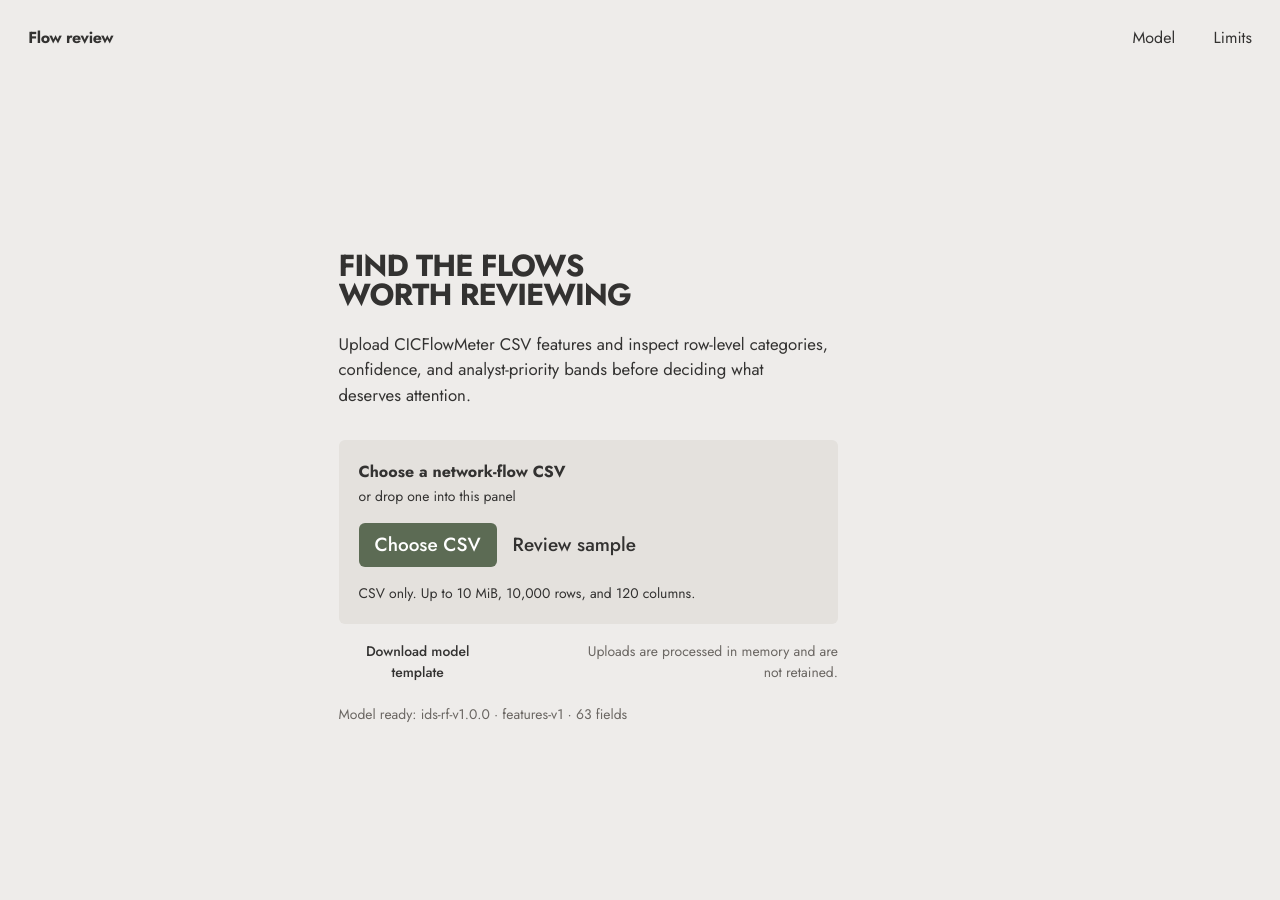
Test case: App live API states › moves through loading into live results from the safe sample
This screenshot has width=1280, height=900.
Later steps or results of the test are not shown.
Expected: the text "Model ready: ids-rf-v1.0.0 · features-v1 · 63 fields" is shown, left=338, top=704, right=627, bottom=725
Click the button "Review sample": (574, 545) left=513, top=523, right=636, bottom=567
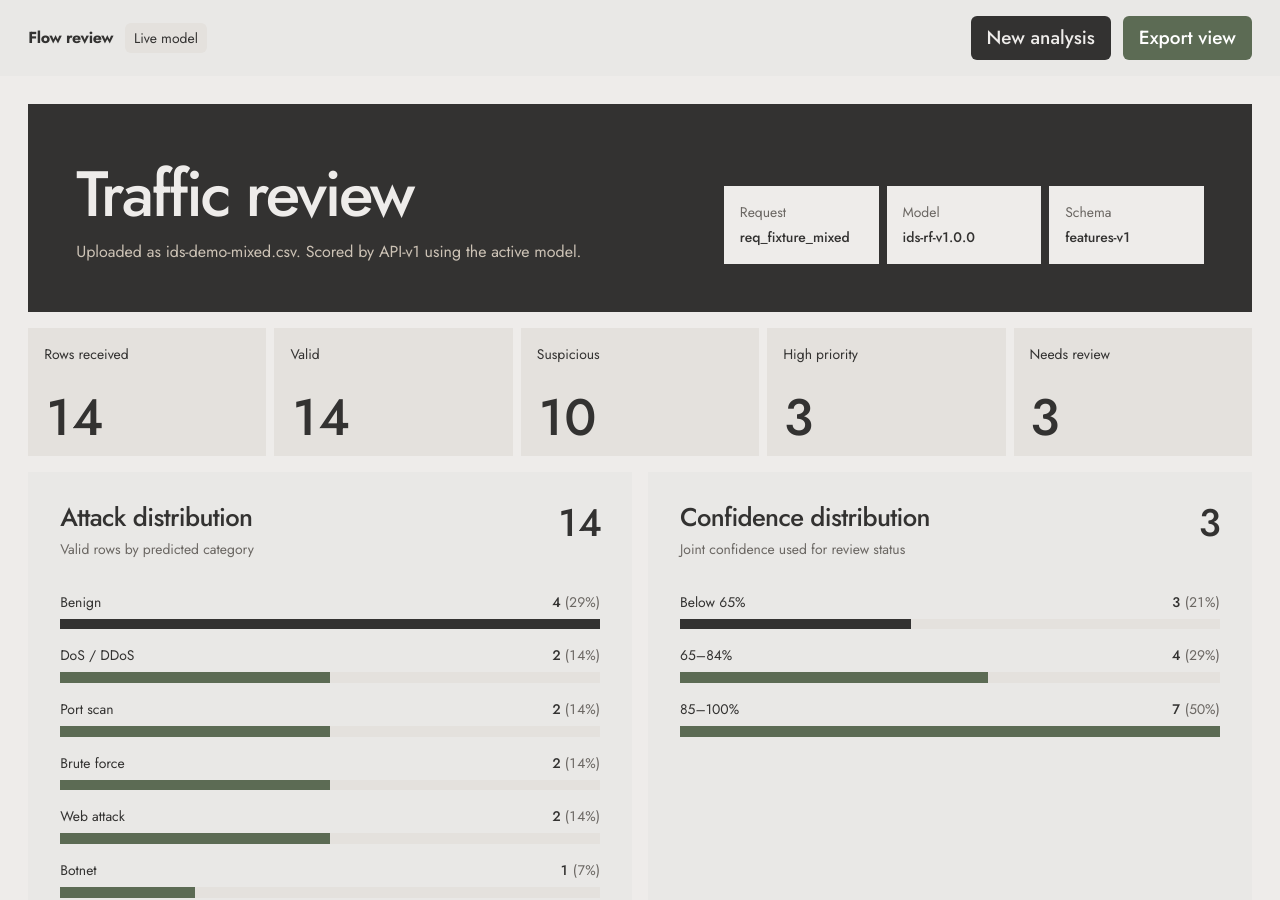
Now the heading "Traffic review" is shown, box left=76, top=148, right=413, bottom=240
Now the text "Live model" is shown, box left=125, top=23, right=207, bottom=53
Now the text "Uploaded as ids-demo-mixed.csv" is shown, box left=76, top=240, right=306, bottom=263
